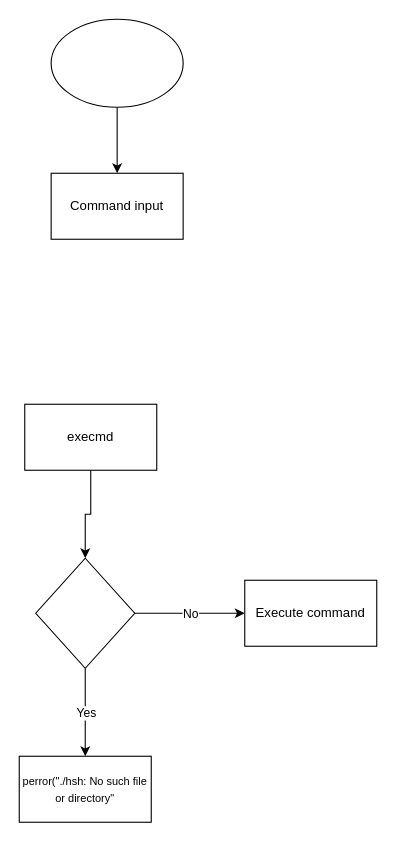
Some shapes in this 396 by 842 pixel diagram are drawn without their labels. The shapes that lost their labels are listed below. From the top down, each one's centre as x and y in pixels, then its label:
point 116,62: Start
point 85,612: Is execve == -1 ?
